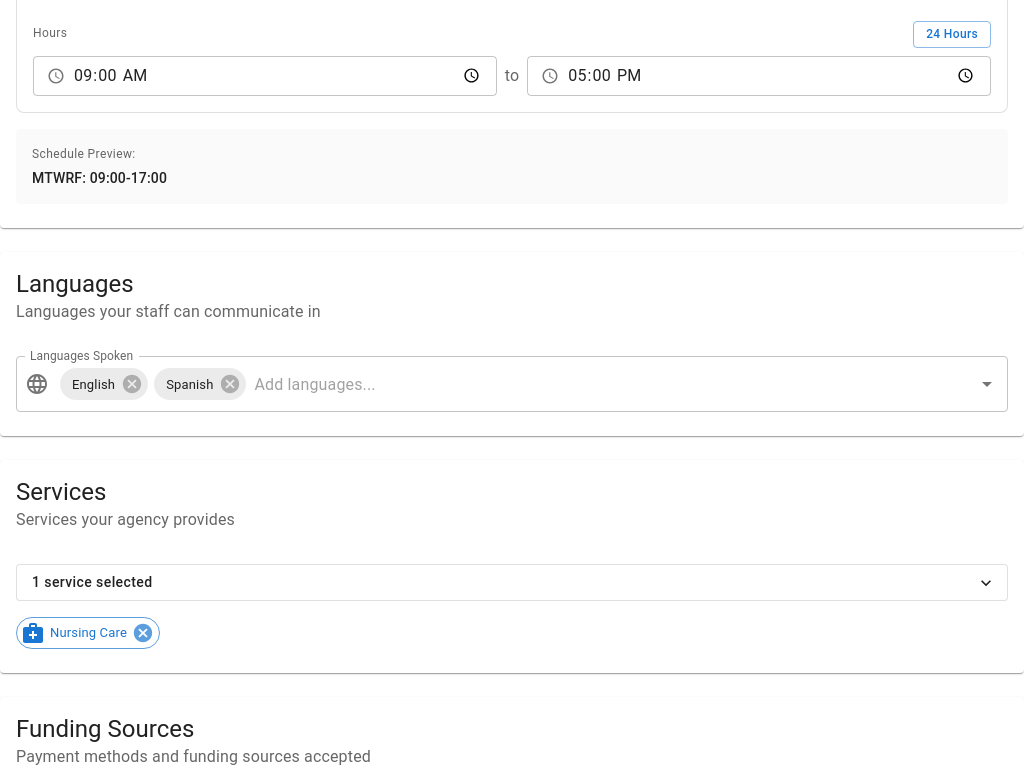
Test case: Edit Agency Page - BVA Tests › Selection Count Boundaries › Languages Selection Count › 1 language - shows single chip
(page scrolled)
What coordinates should you click on to do the following:
click the 2nd icon with test id "CancelIcon"
I would click on:
 (230, 384)
Its box is x1=220 y1=373 x2=242 y2=395.
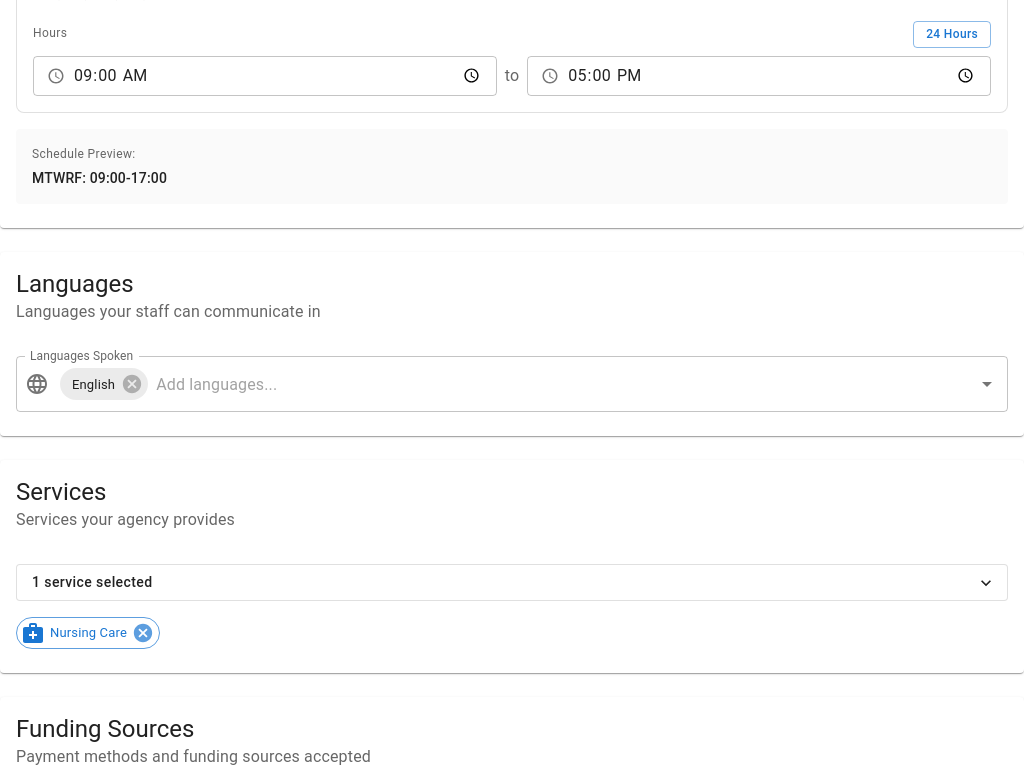
Check: the text "English" is shown, box x1=72 y1=377 x2=115 y2=392
Check: the button "Spanish" is gone
